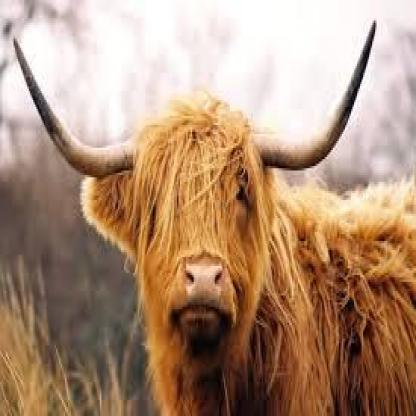cow: (80, 107, 416, 416)
